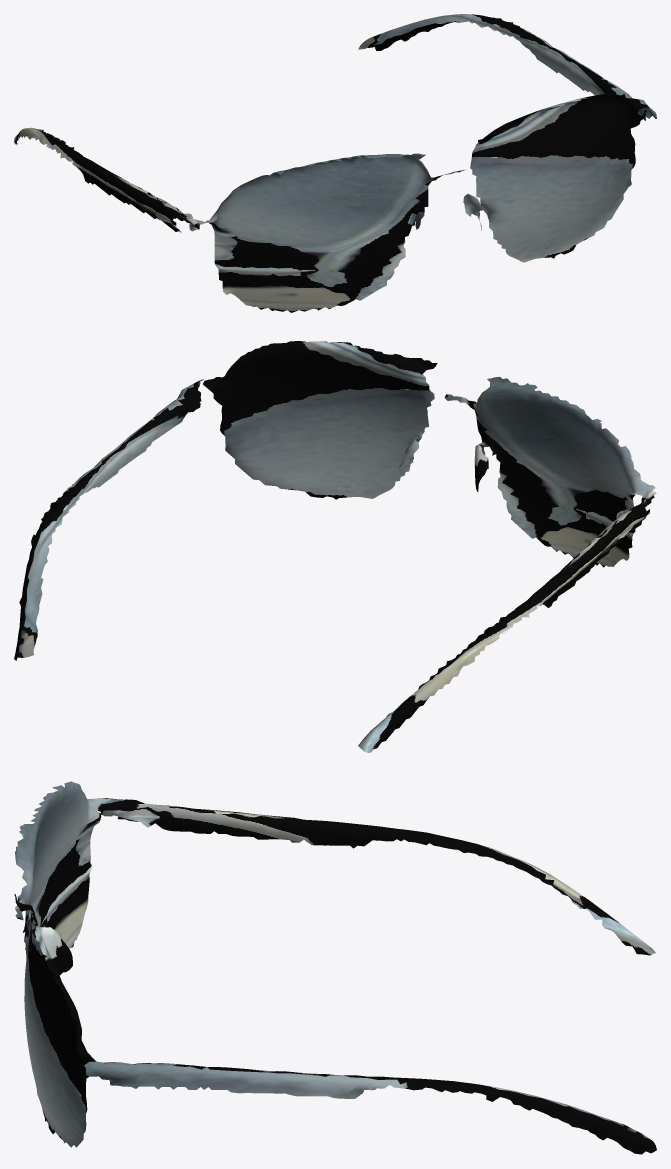
Rendered from scan_align.obj.
3 renders of one model, top to bottom at view 1: azimuth 30°, elevation 25°; view 2: azimuth 150°, elevation 25°; view 3: azimuth 270°, elevation 25°, orthographic. The views are drawn at different scales.
Bounding box in the file's own units: 0.1487 × 0.047 × 0.1469.
